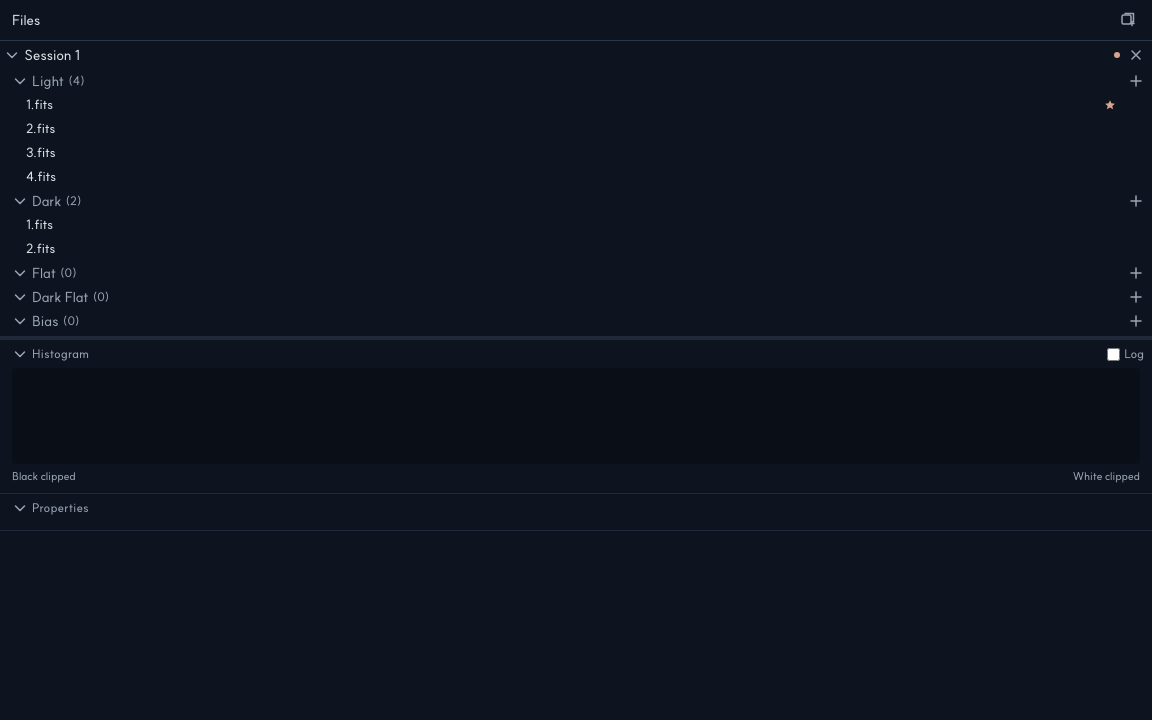
Test: file list interactions › offers master only for a file that is alone in its role
The image size is (1152, 720).
Right-click the 2nd option titled "/d/1.fits": (40, 224) [26, 216, 53, 232]
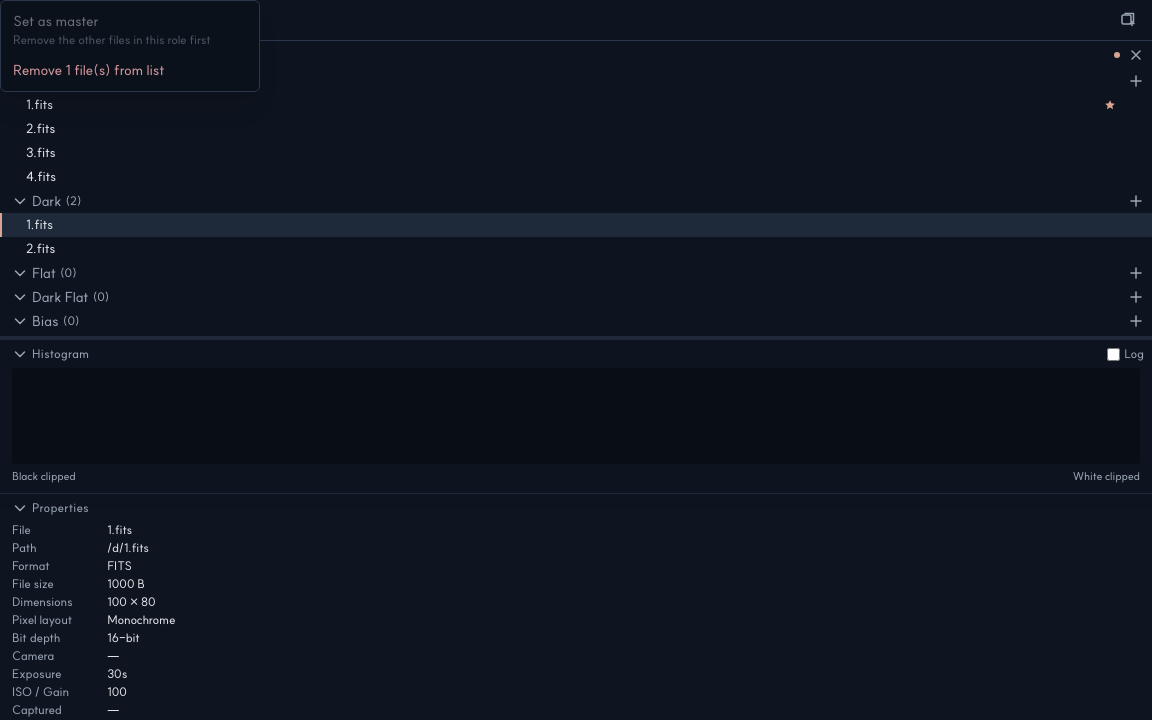
Expected: the menu item "Set as master Remove the other files in this role first" is disabled, [1, 5, 259, 54]
Expected: the text "Remove the other files in this role first" is shown, [13, 32, 211, 47]
Click the menu item "Remove 1 file(s) from list": (130, 70) [1, 54, 259, 87]
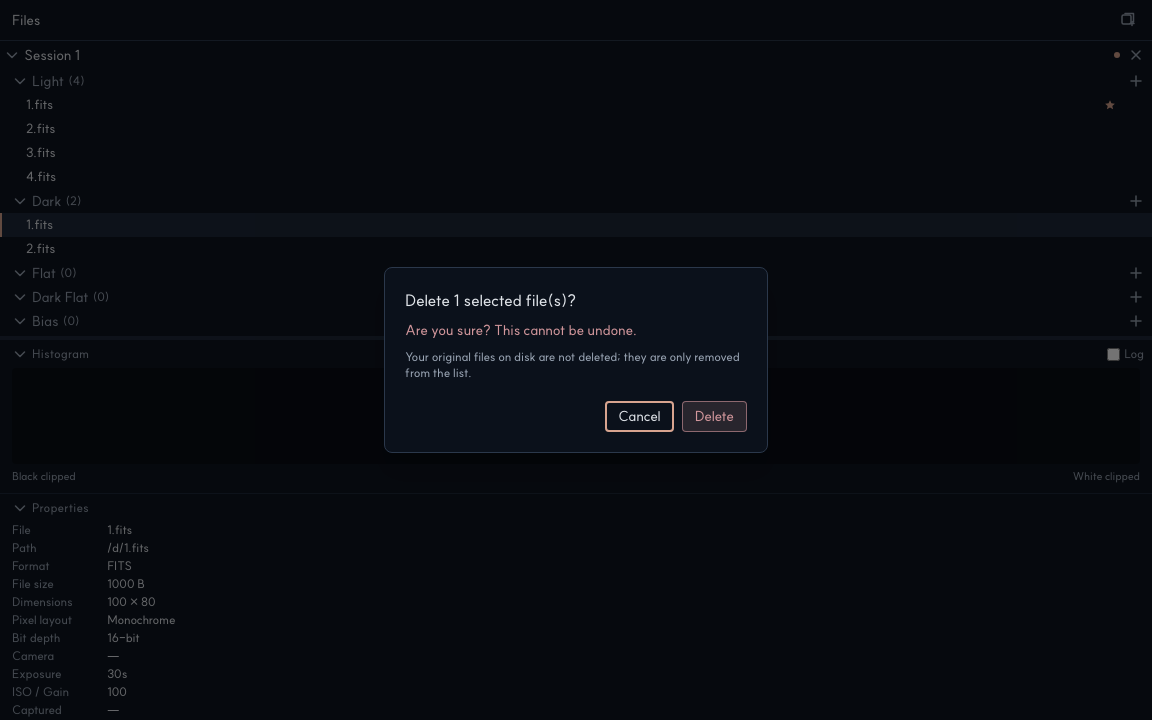
Click the button "Delete": (714, 416) [682, 401, 747, 432]
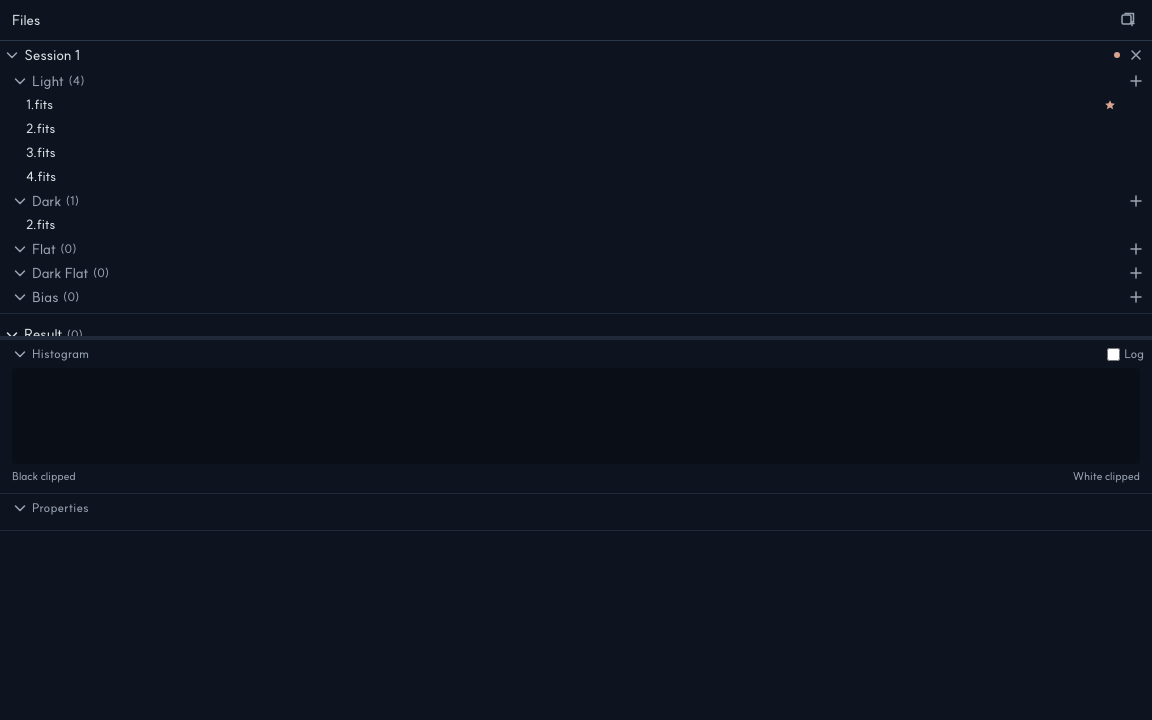
Right-click the 2nd option titled "/d/2.fits": (41, 224) [26, 216, 56, 232]
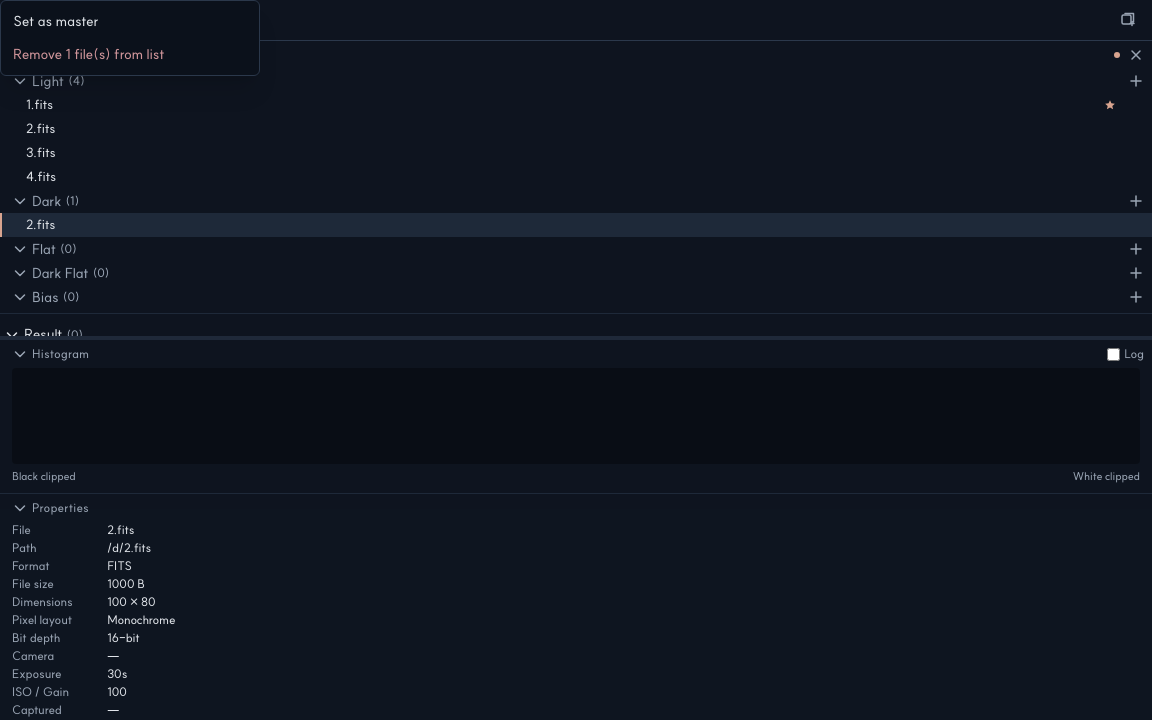
Click the menu item "Set as master": (130, 22) [1, 5, 259, 38]
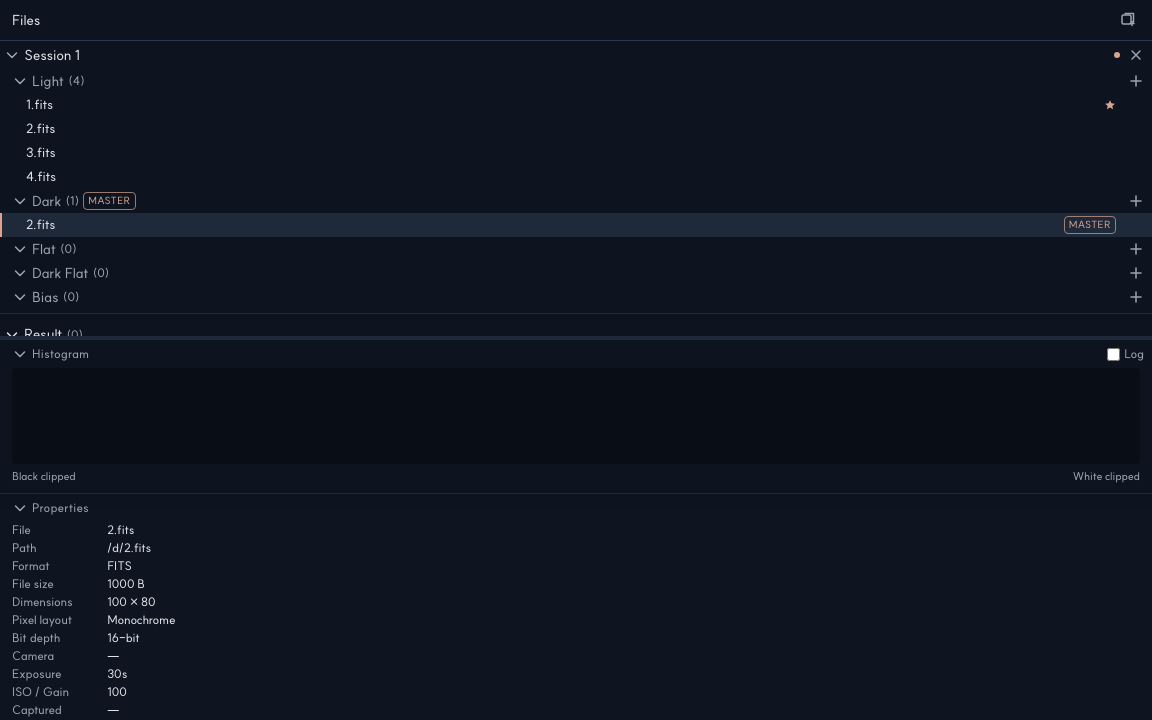
Expected: the 1st text "MASTER" is shown, [83, 192, 136, 210]
